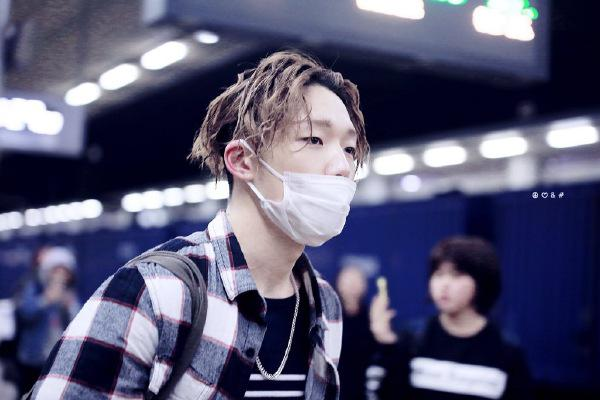NONE: (429, 266, 475, 315)
WRONG: (267, 103, 356, 247)
